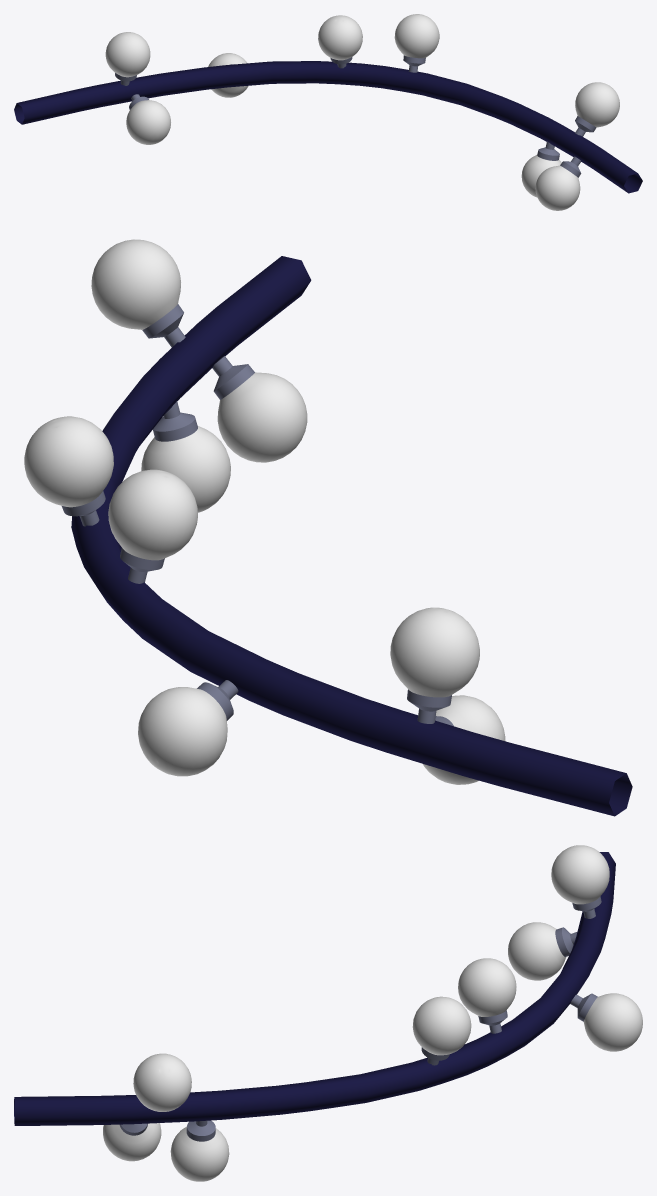
File: Guirlande courbe.001.fbx
3 views of the same model, one above another, from view 1: azimuth 30°, elevation 25°; view 2: azimuth 150°, elevation 25°; view 3: azimuth 270°, elevation 25° (orthographic). The views are drawn at different scales.
Visible parts, largest first — view 1: BézierCurve; view 2: BézierCurve; view 3: BézierCurve.
Part boxes in pixels (box(x1,y1,x2,y2)): BézierCurve: box(14, 14, 642, 210); BézierCurve: box(24, 239, 632, 816); BézierCurve: box(14, 845, 642, 1181).
Size of the model in its own units: 214 by 221 by 59.83.
